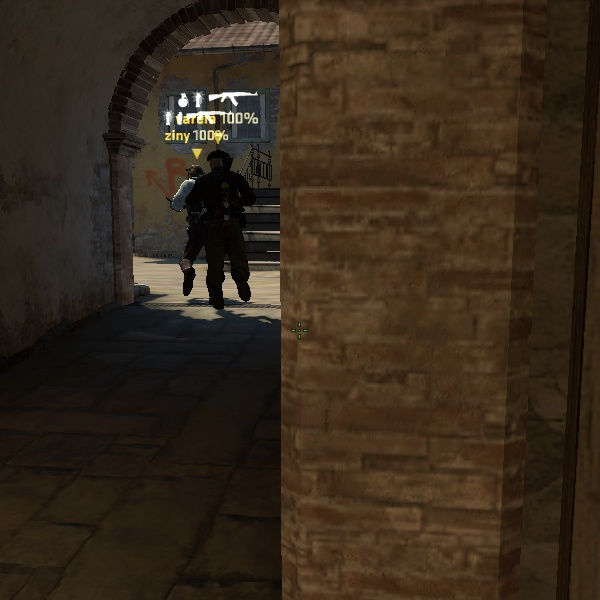t_body: (160, 146, 264, 317)
t_head: (199, 145, 236, 182)
